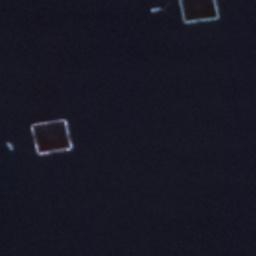square_solid: (26, 115, 78, 160), (171, 1, 225, 27)
